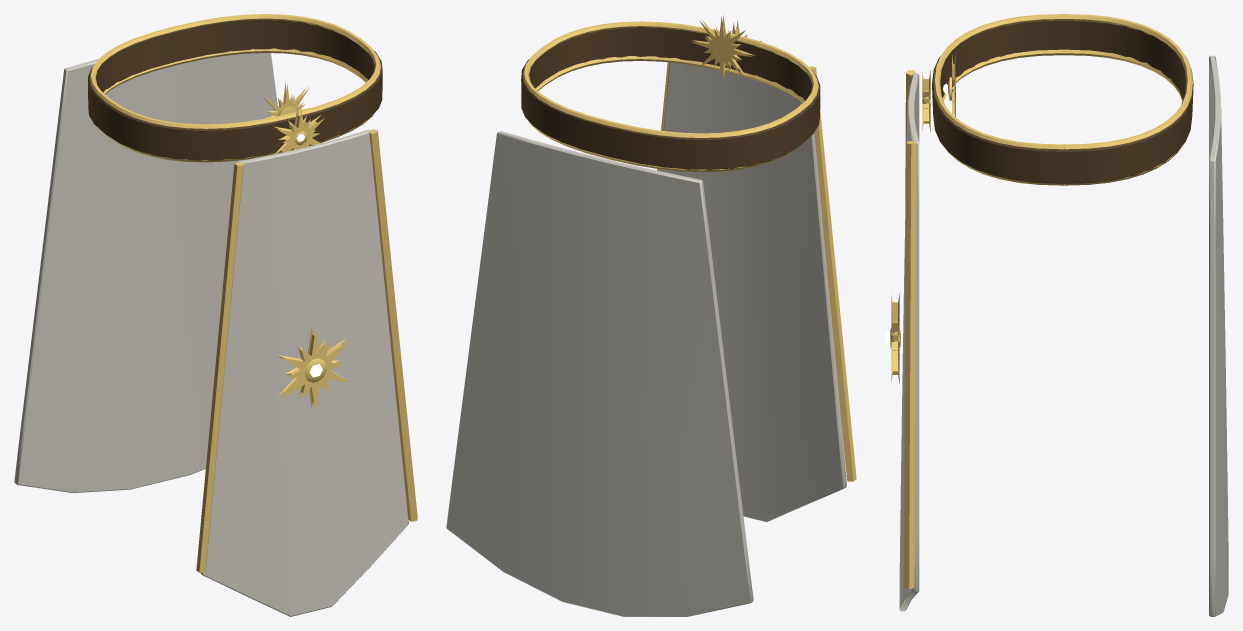
The model's file is asc_hierophant_inner.glb.
3 views of the same model, side by side, from view 1: azimuth 30°, elevation 25°; view 2: azimuth 150°, elevation 25°; view 3: azimuth 270°, elevation 25° (orthographic). The views are drawn at different scales.
Parts seen in each view (by area): view 1: asc_hierophant_inner; view 2: asc_hierophant_inner; view 3: asc_hierophant_inner.
Part boxes in pixels (left/top/right/bottom): asc_hierophant_inner: left=14, top=14, right=417, bottom=616; asc_hierophant_inner: left=446, top=15, right=856, bottom=616; asc_hierophant_inner: left=885, top=14, right=1228, bottom=616.
Size of the model in its own units: 0.5401 by 0.8767 by 0.4988.
